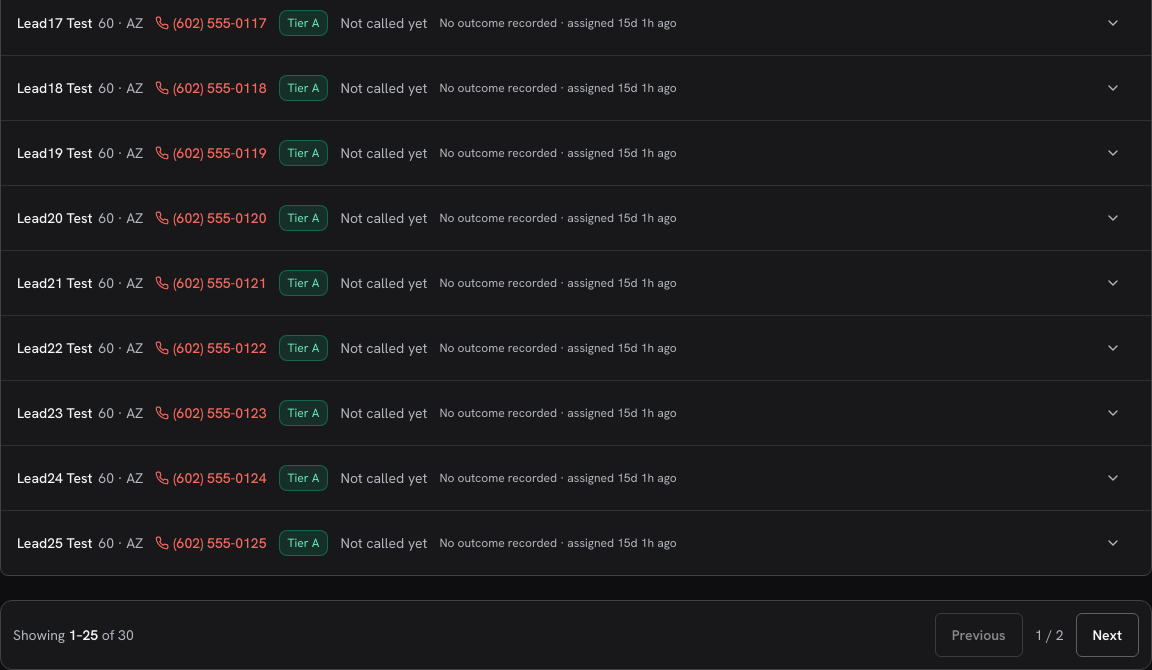
My Leads work list › opens the next lead across a page boundary after logging a result
(page scrolled)
What coordinates should you click on to do the following:
click the button named "Open Lead25 Test"
I would click on:
 (1113, 543)
Its box is [1091,521,1135,565].
(page scrolled)
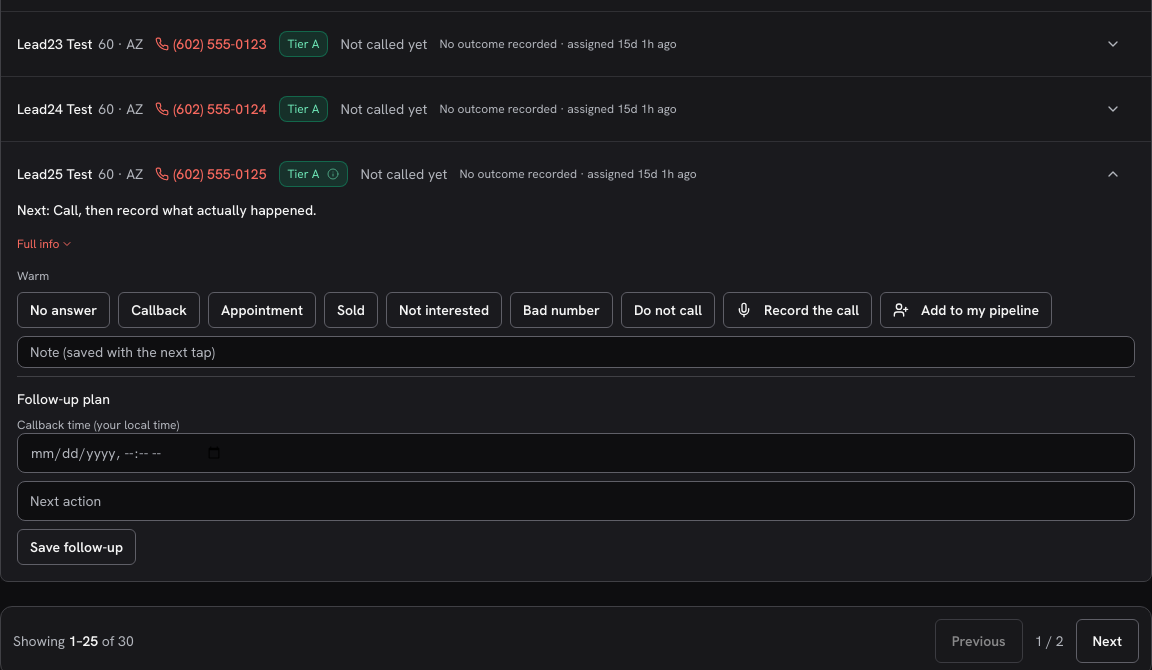
What coordinates should you click on to do the following:
click the button "Callback"
I would click on:
 (159, 310)
Its box is [118,292,200,328].
(page scrolled)
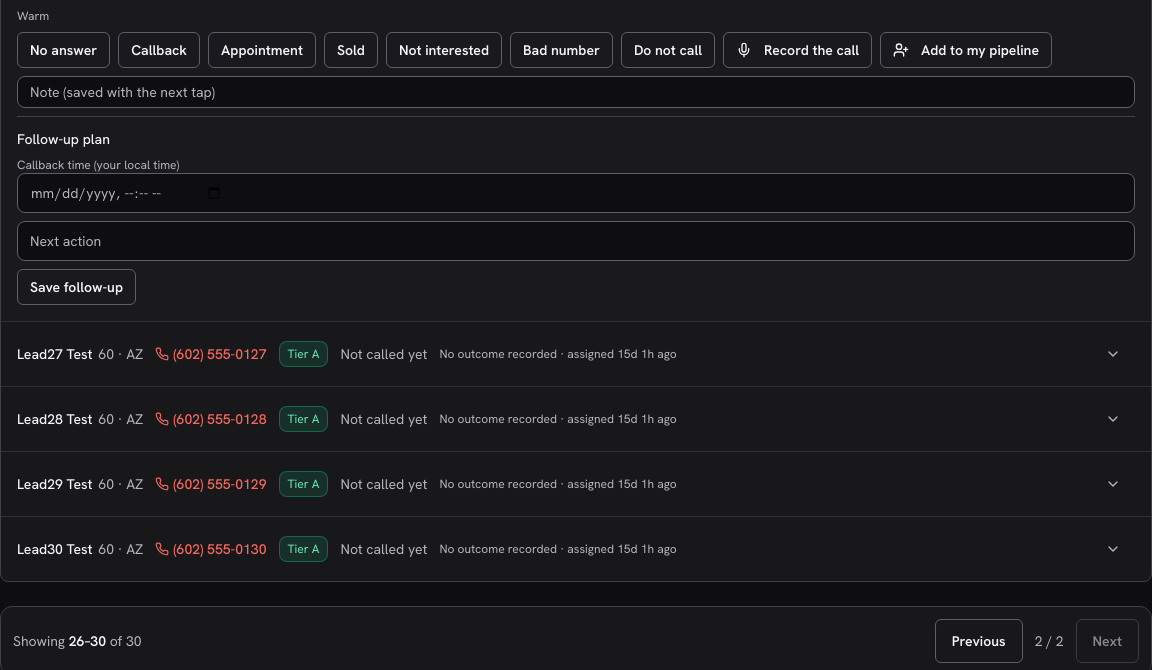
Now the button with aria-label "Previous assigned leads page" is enabled, box [935,619,1023,663]
